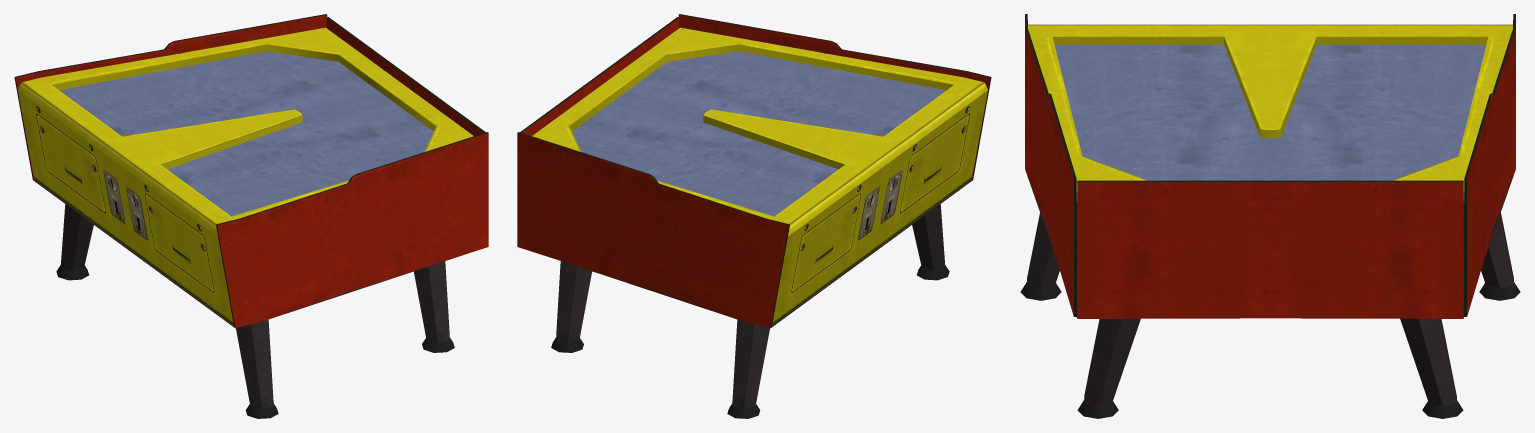
File: air_hockey-2.FBX
3 views of the same model, side by side, from view 1: azimuth 30°, elevation 25°; view 2: azimuth 150°, elevation 25°; view 3: azimuth 270°, elevation 25° (orthographic). The views are drawn at different scales.
Visible parts, largest first — view 1: air_hockey-2_LOD0; view 2: air_hockey-2_LOD0; view 3: air_hockey-2_LOD0.
Part boxes in pixels (box(x1,y1,x2,y2)): air_hockey-2_LOD0: box(14, 14, 488, 418); air_hockey-2_LOD0: box(517, 14, 991, 418); air_hockey-2_LOD0: box(1020, 14, 1520, 418).
Size of what is drawn, in the model's own units: 50.32 by 34.63 by 61.48.
